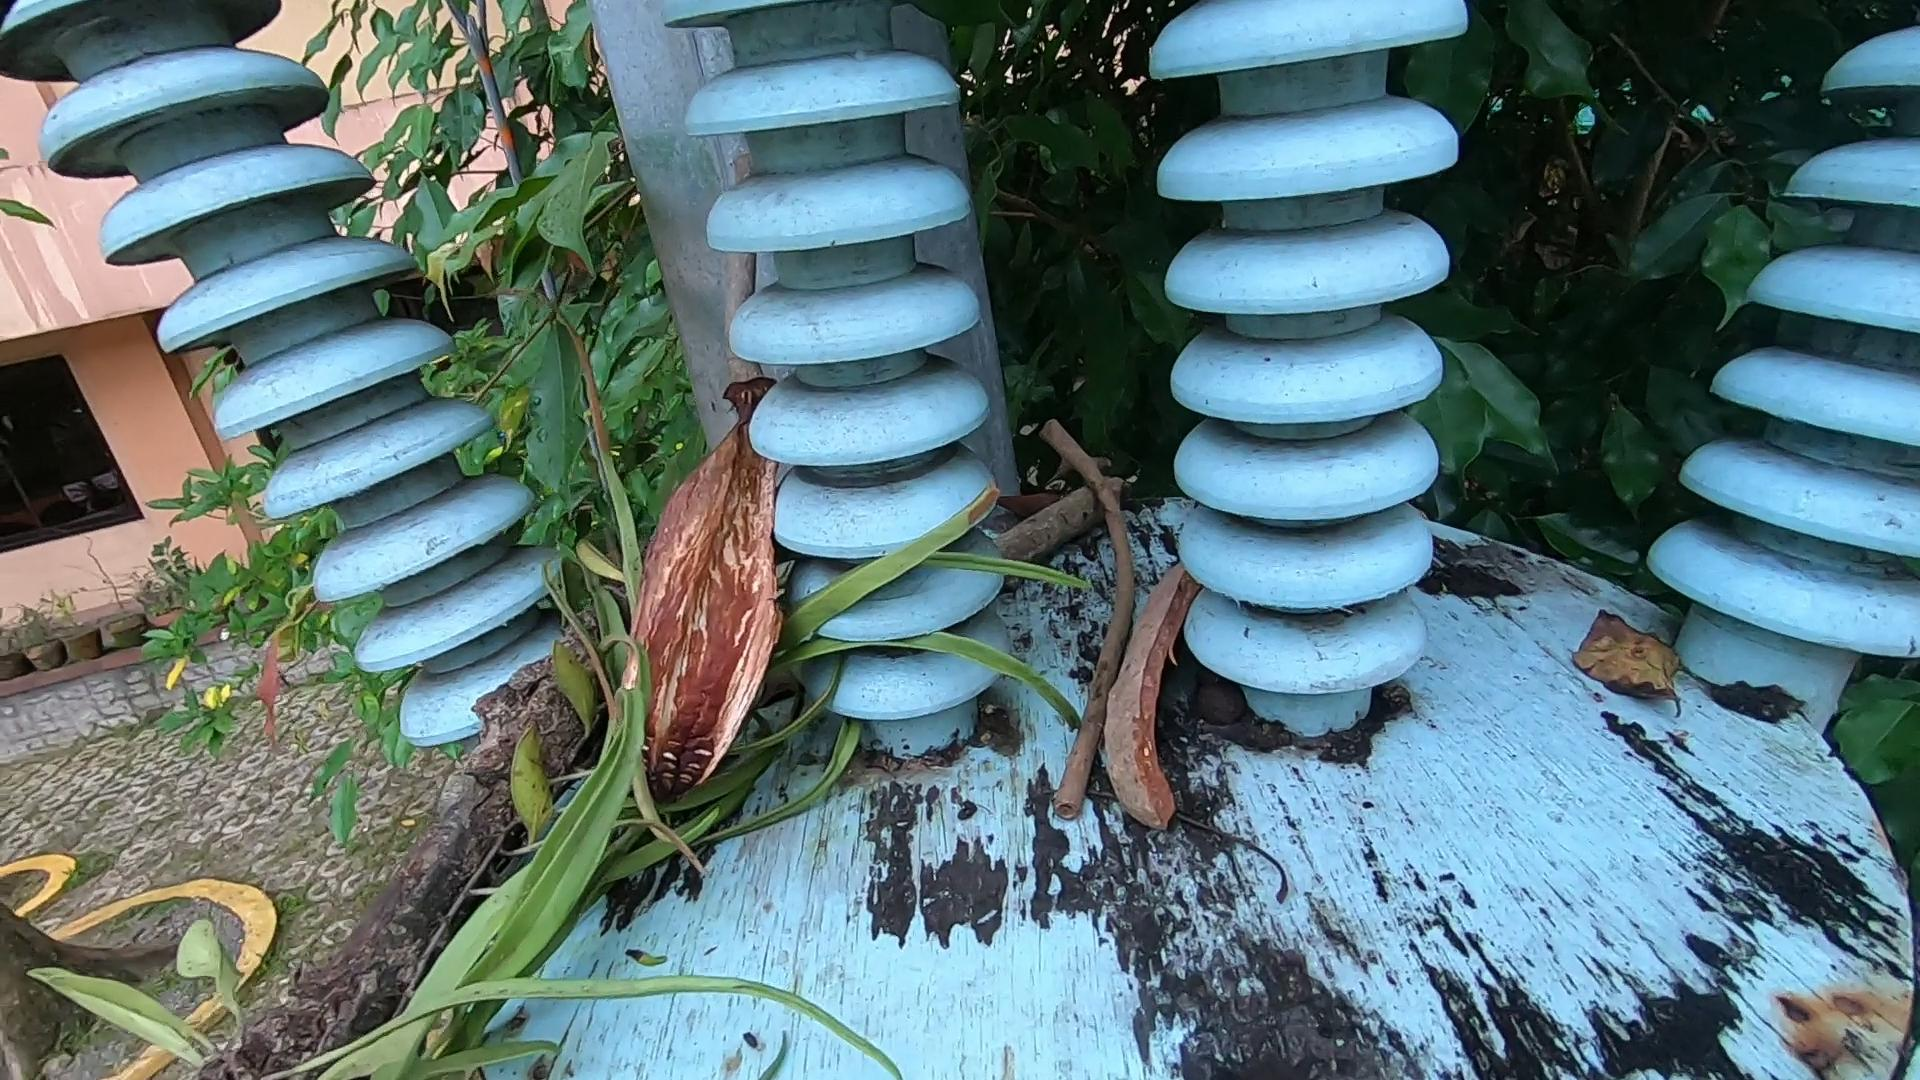branch with leaves: (29, 313, 1085, 1080)
leaf: (1572, 609, 1687, 709)
mahogany fruit: (628, 417, 767, 771), (1083, 498, 1187, 903)
tree branch: (1039, 405, 1133, 815), (996, 473, 1124, 571)
